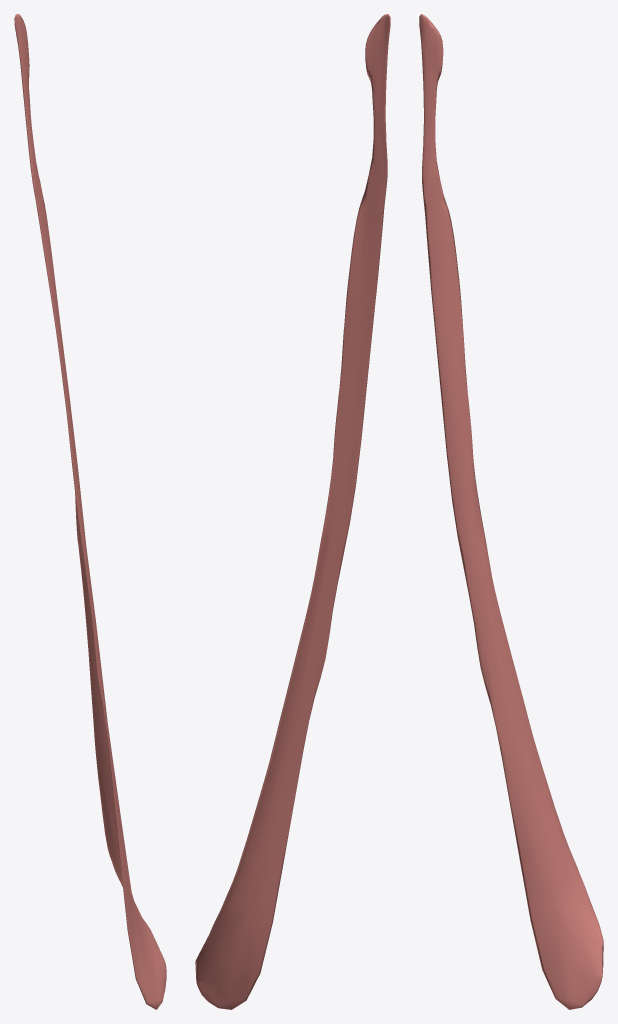
3 renders of one model, left to right at view 1: azimuth 30°, elevation 25°; view 2: azimuth 150°, elevation 25°; view 3: azimuth 330°, elevation 25°, orthographic. The views are drawn at different scales.
Visible parts, largest first — view 1: ZA_0adaa59738f1c6f9; view 2: ZA_0adaa59738f1c6f9; view 3: ZA_0adaa59738f1c6f9.
Part boxes in pixels (x1,y1,x2,y2): ZA_0adaa59738f1c6f9: (14, 14, 166, 1009); ZA_0adaa59738f1c6f9: (195, 14, 390, 1009); ZA_0adaa59738f1c6f9: (419, 14, 603, 1009).
Size of the model in its own units: 0.0572 by 0.3266 by 0.0285.
